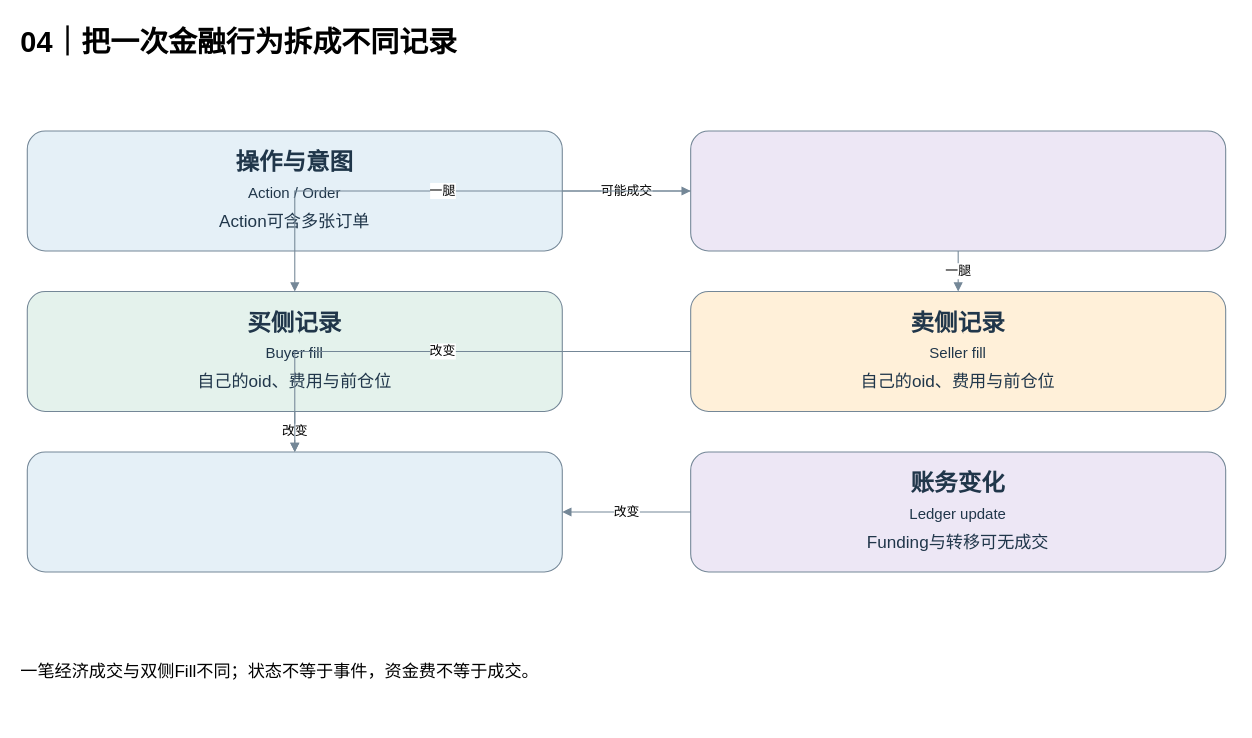
Image size: 1252x738. Some labels were removed from this diagram. Each missing label, with the centre of its shape:
"状态 Position / Balance 时点存量" goes at pixel 294 511.
"经济撮合 Trade 一笔匹配事件" goes at pixel 958 190.
